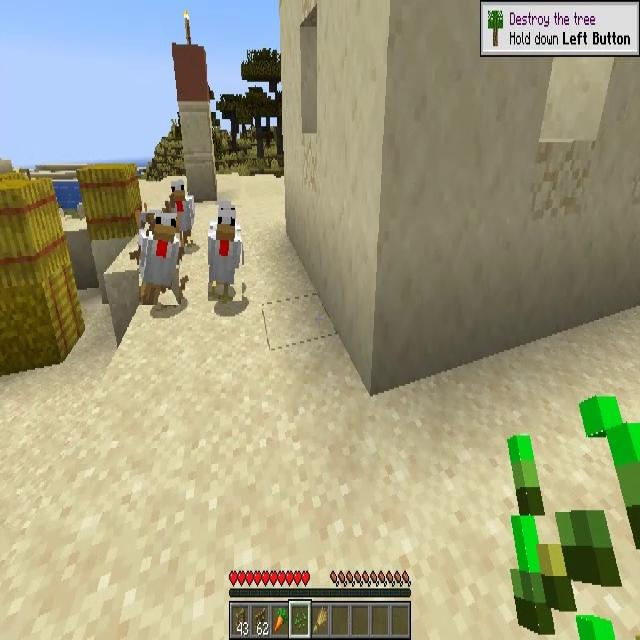duck: (139, 213, 179, 305), (208, 205, 242, 301), (170, 180, 196, 248)
